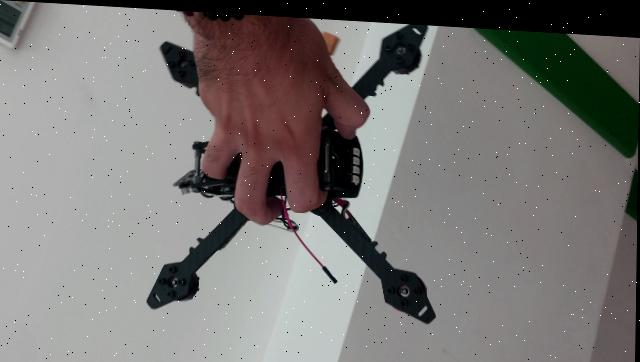drone: (129, 6, 445, 333)
